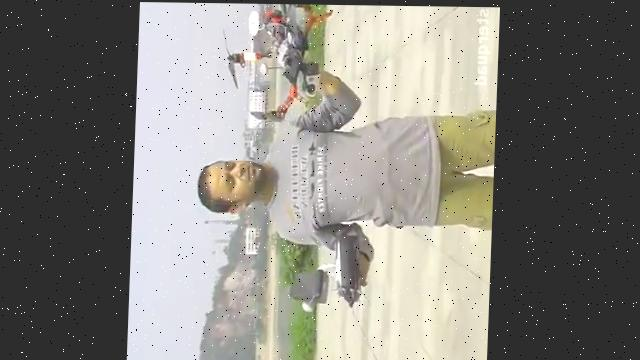drone: (216, 3, 335, 127)
